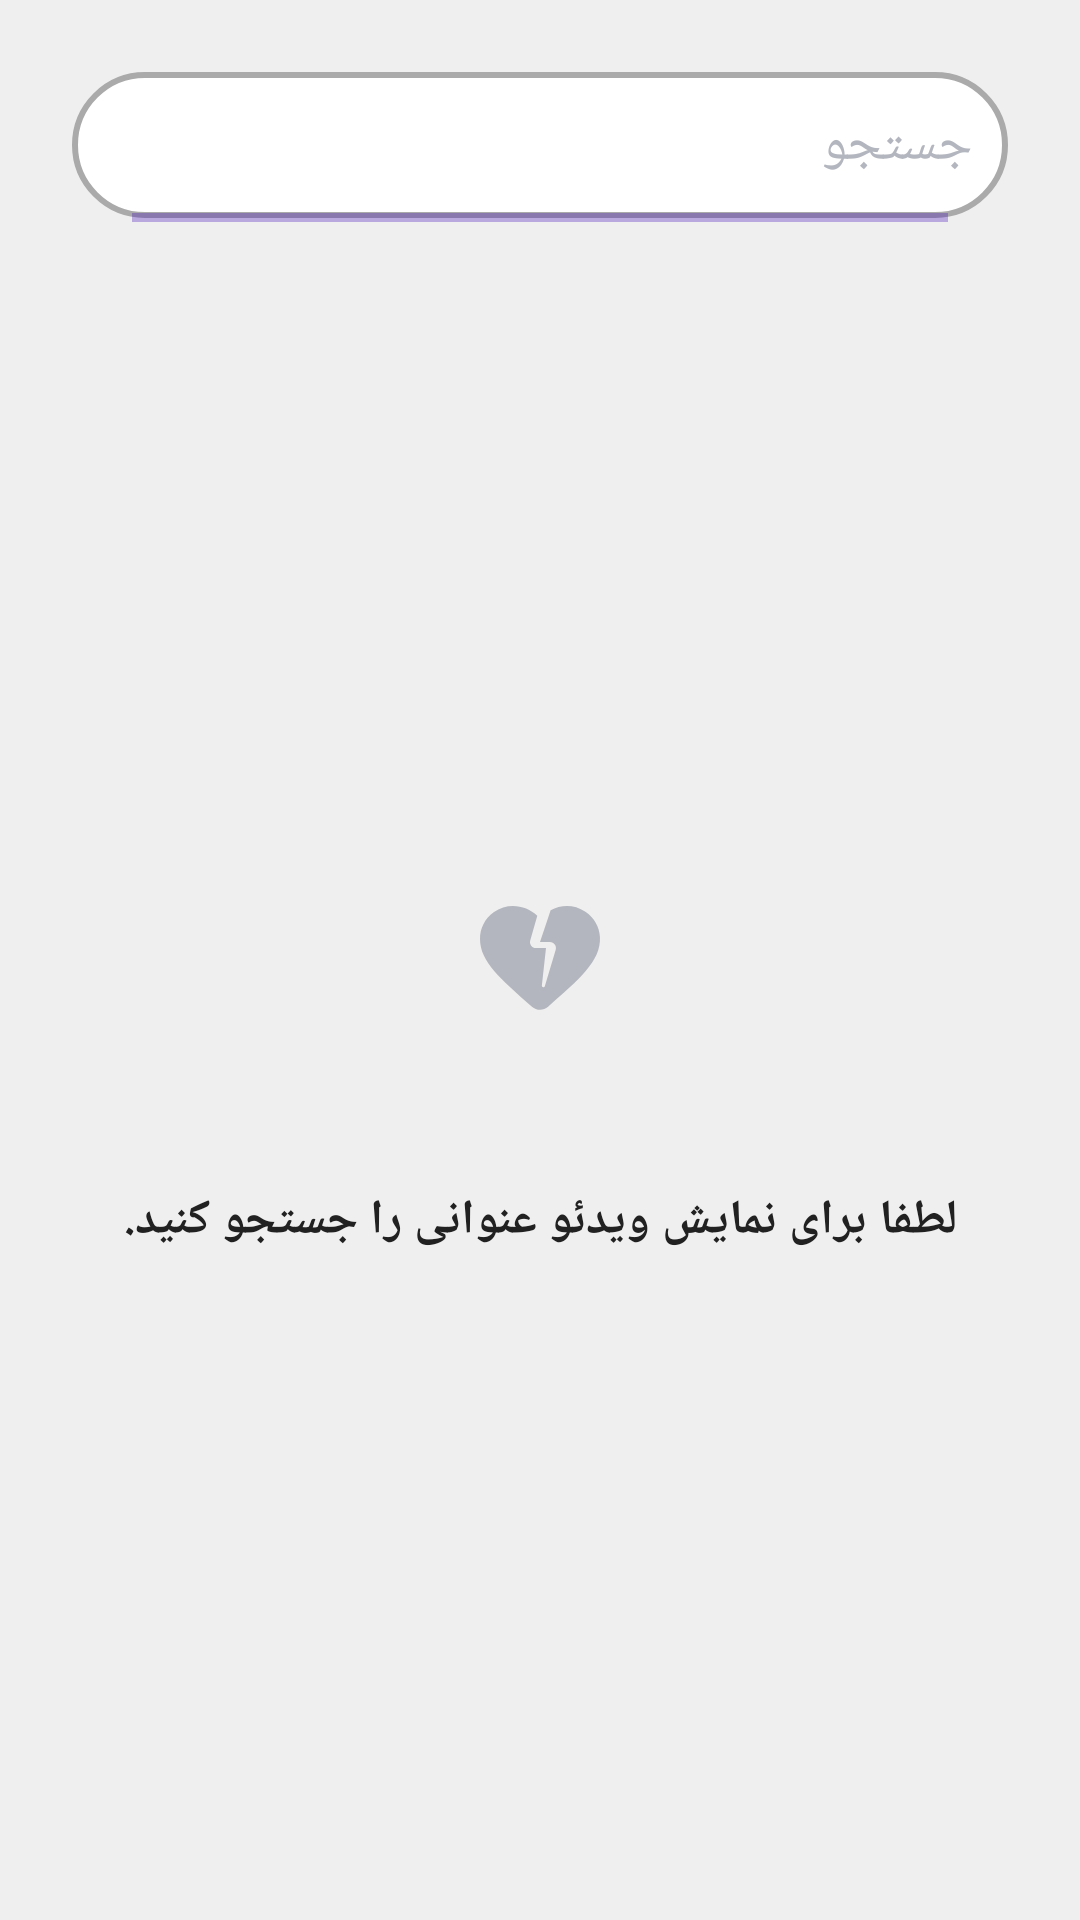

Icons on this 1080 × 1920 Android screen, each with its box as BBox(x1, y1, x2, y2):
heart broken: BBox(480, 906, 600, 1010)
